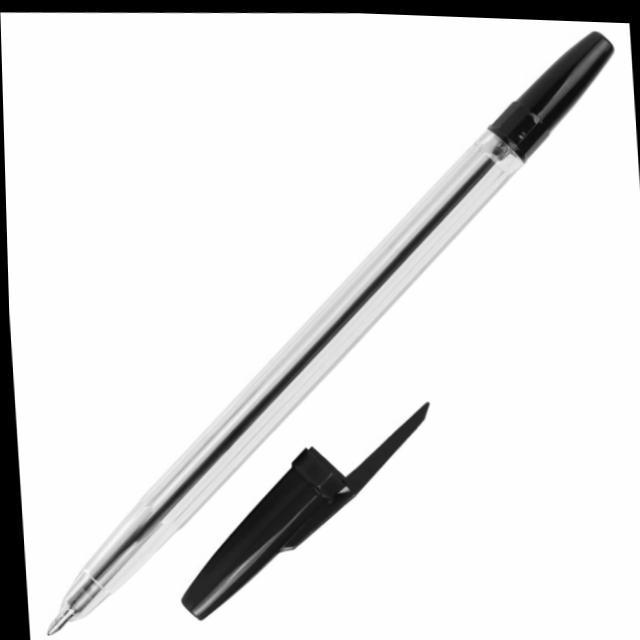pencil: (0, 21, 627, 640)
